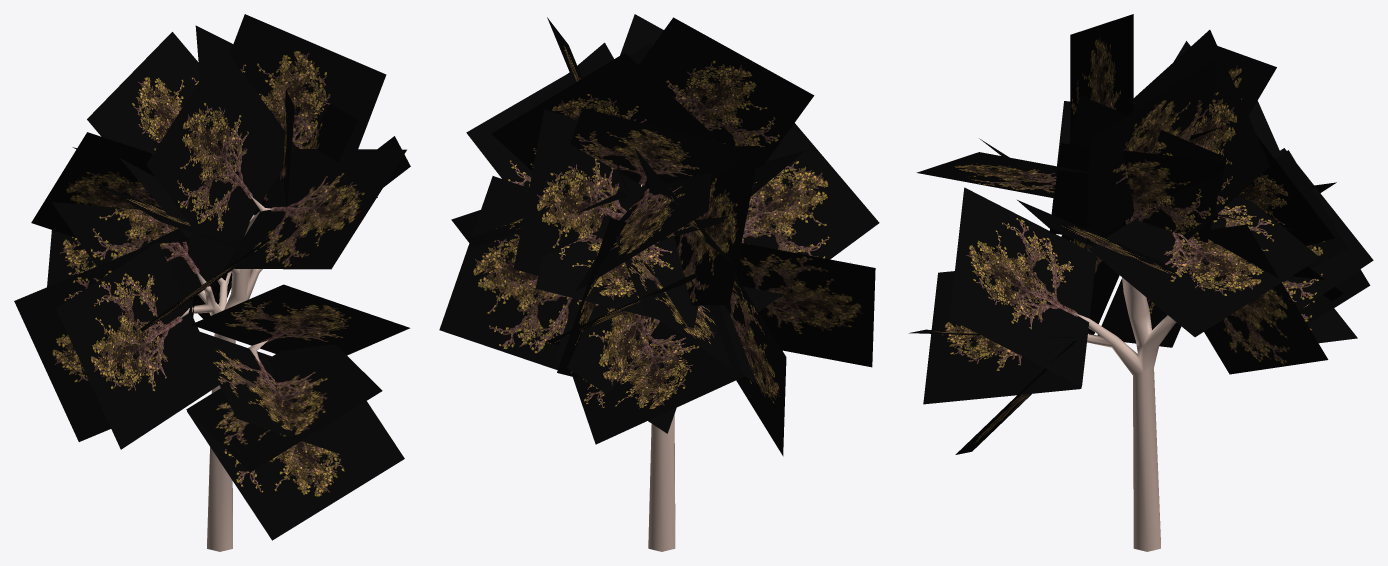
Rendered from tree13.glb.
3 views of the same model, side by side, from view 1: azimuth 30°, elevation 25°; view 2: azimuth 150°, elevation 25°; view 3: azimuth 270°, elevation 25° (orthographic). The views are drawn at different scales.
Bounding box in the file's own units: 5.37 × 7.08 × 5.64.
2 materials, 1 textured.
